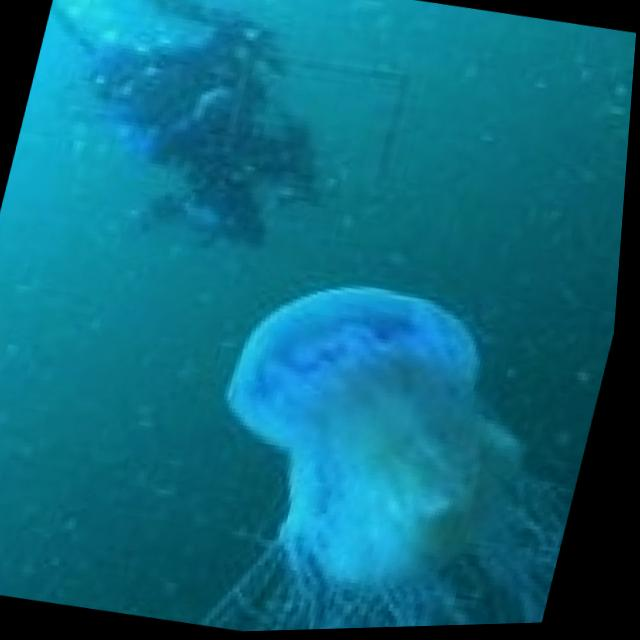Jellyfish: (158, 237, 625, 635)
